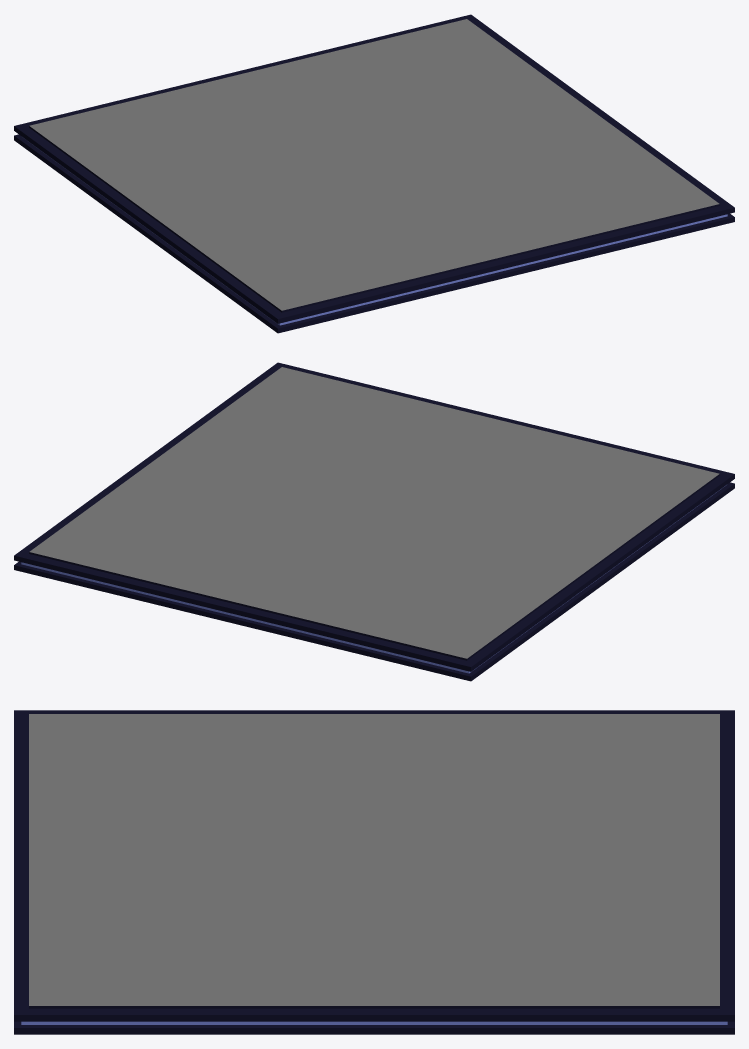
Rendered from LabGameFloor.fbx.
The picture shows the model from 3 angles, top to bottom: view 1: azimuth 30°, elevation 25°; view 2: azimuth 150°, elevation 25°; view 3: azimuth 270°, elevation 25°; orthographic projection. The views are drawn at different scales.
Visible parts, largest first — view 1: Cube; view 2: Cube; view 3: Cube.
Boxes of the visible parts, x1,y1,x2,y2 form: Cube: (14,14,734,333); Cube: (14,362,734,681); Cube: (14,710,734,1034).
Size of the model in its own units: 2000 by 191 by 2000.
